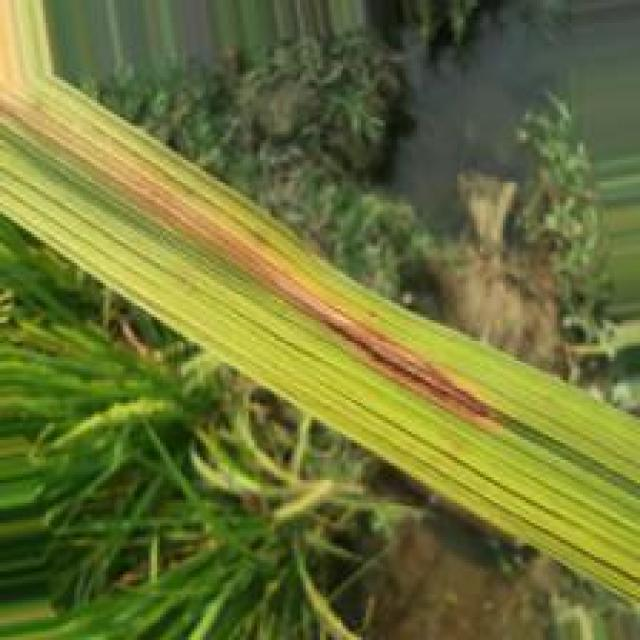Leaf_Blast: (128, 162, 501, 428)
